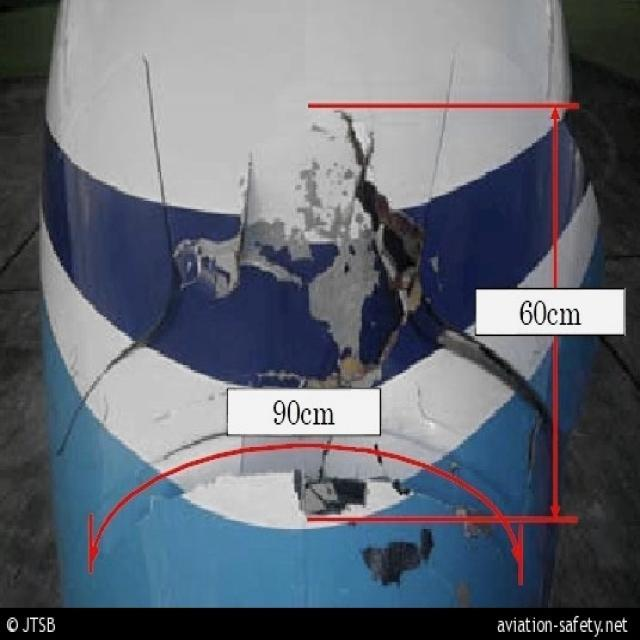crack: (336, 109, 546, 439), (217, 147, 257, 300)
